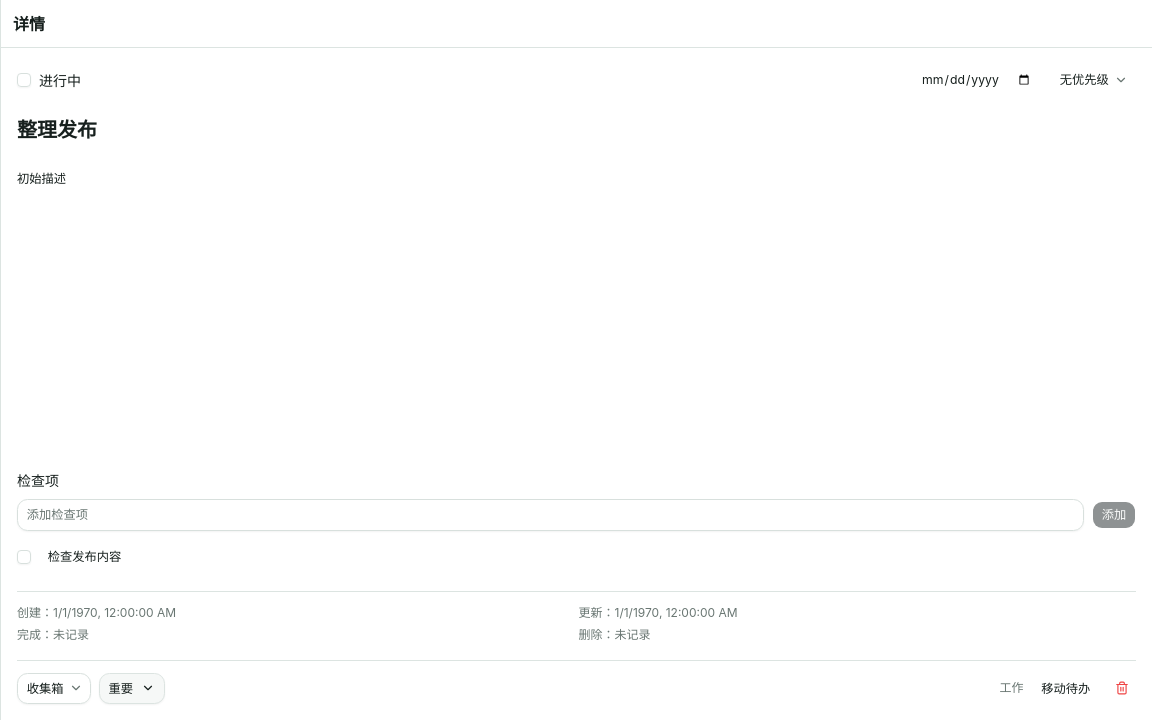
Scenario: TaskDetailPane › Checklist 创建失败保留输入，编辑失败回滚并显示 Toast
This screenshot has width=1152, height=720.
Type "不丢失" into the field labelled "添加检查项".
click(550, 515); type("不丢失")  # box 17,499 -> 1084,530
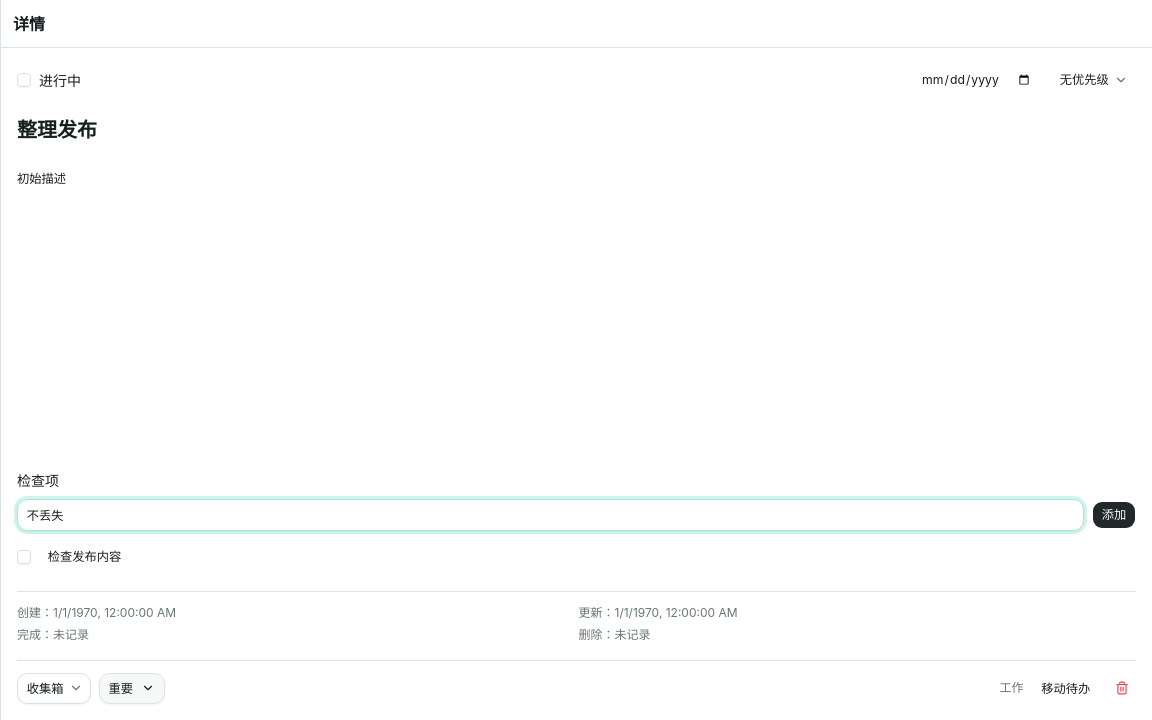
Click the button "添加".
click(1114, 515)  # box 1092,501 -> 1136,529
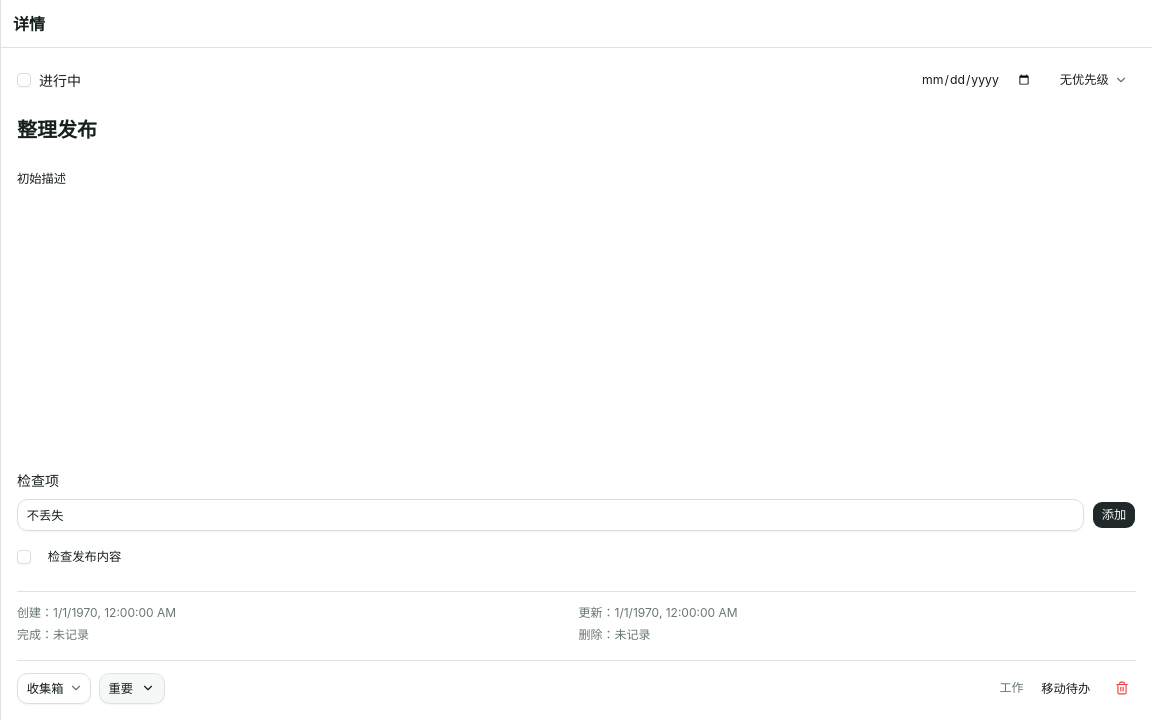
Replace the text in the field named "检查项检查发布内容" with "失败编辑" at (540, 557), box 39,541 -> 1040,572
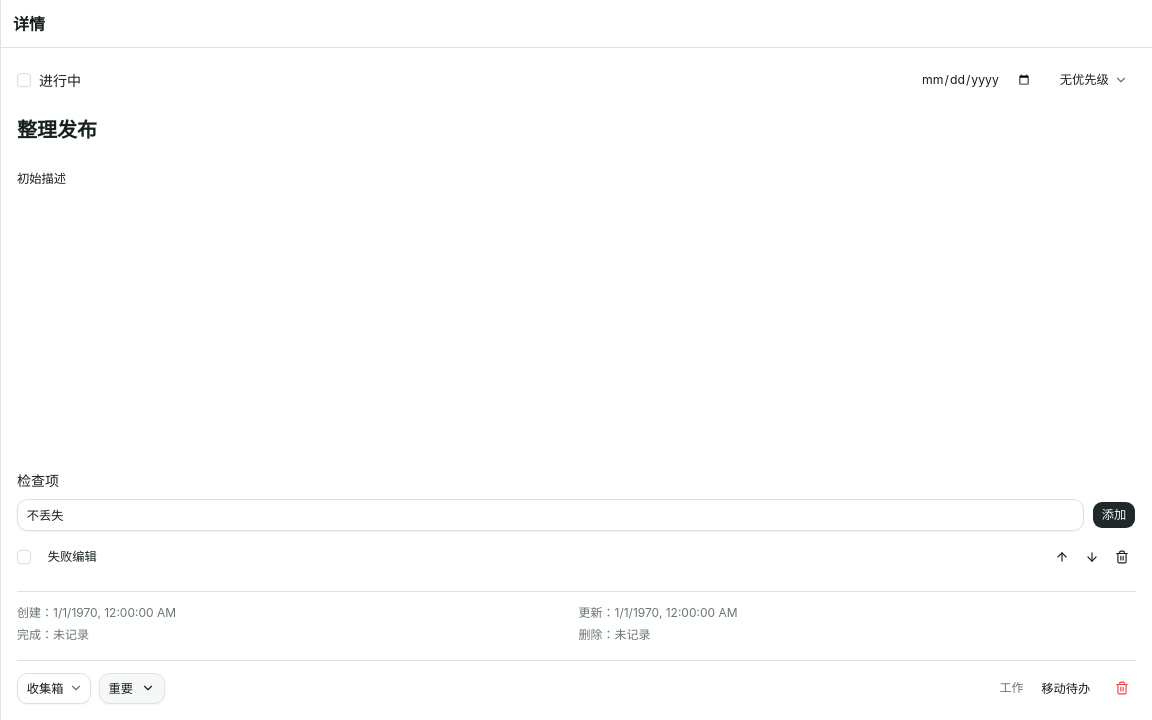
Press Tab
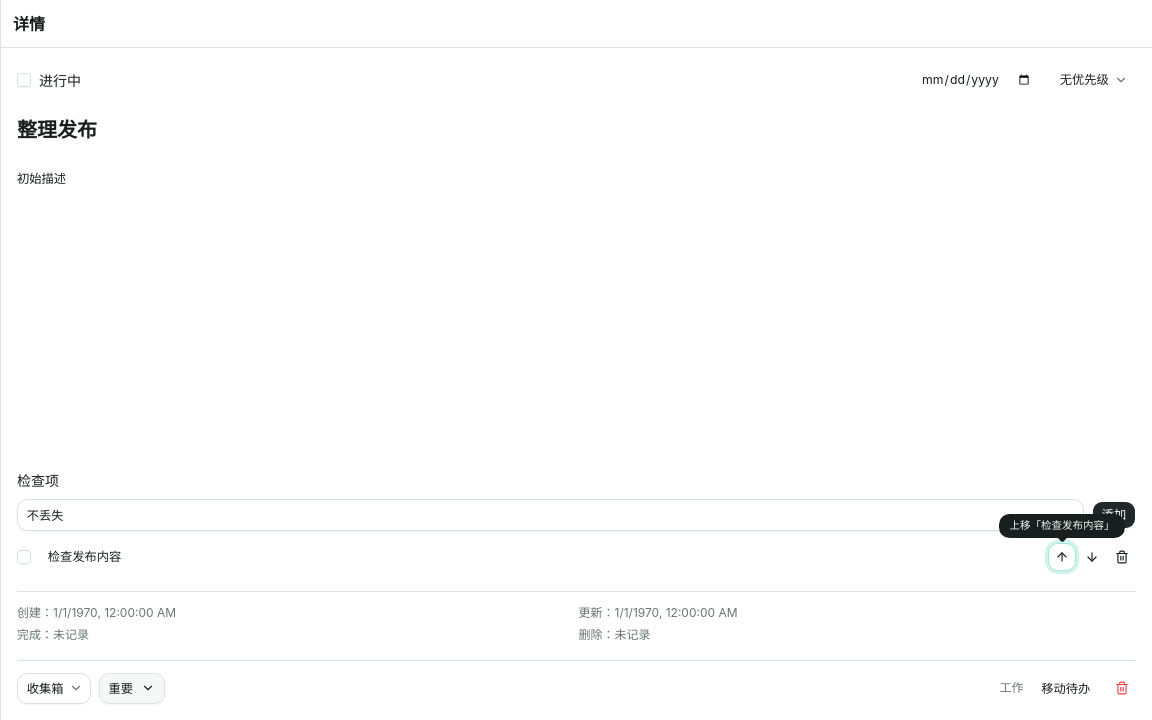
Expected: the field named "检查项检查发布内容" holds "检查发布内容", 39,541 -> 1040,572
